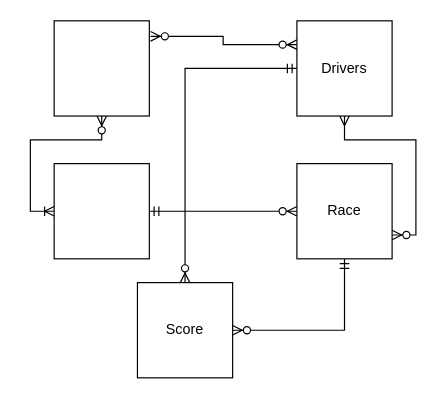
Image size: 447x399. Some labels were removed from this diagram. Here are the shapes that lost their labels. From the top down, the centre of each, then its label:
point (101, 68): Season
point (101, 210): Circuit
